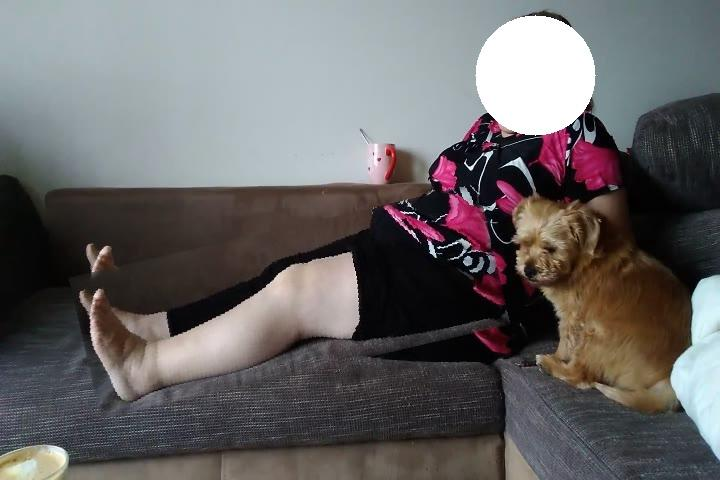lower_body: (76, 206, 506, 397)
